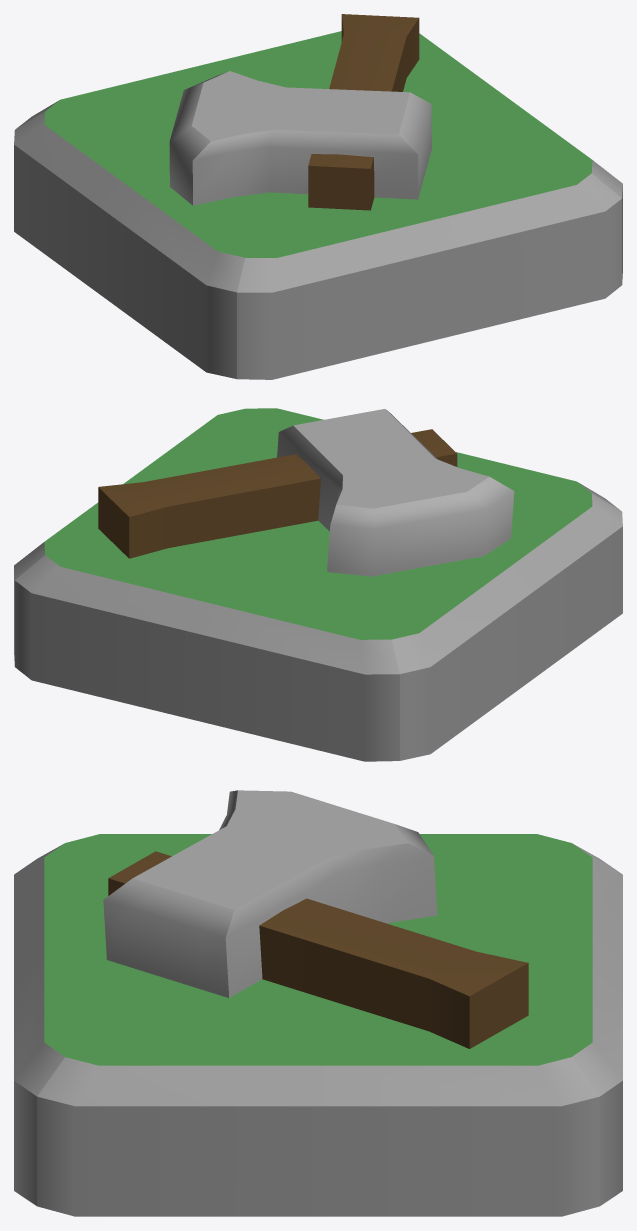
The model's file is Tile_Harvest.fbx.
3 views of the same model, one above another, from view 1: azimuth 30°, elevation 25°; view 2: azimuth 150°, elevation 25°; view 3: azimuth 270°, elevation 25° (orthographic). The views are drawn at different scales.
Parts seen in each view (by area): view 1: harvestTile, polySurface1, polySurface2; view 2: harvestTile, polySurface1, polySurface2; view 3: harvestTile, polySurface1, polySurface2.
Boxes of the visible parts, x1,y1,x2,y2 form: harvestTile: (14,31,622,379); polySurface1: (169,71,431,205); polySurface2: (308,14,419,210); harvestTile: (14,408,622,761); polySurface1: (277,409,514,576); polySurface2: (98,429,457,558); harvestTile: (14,834,622,1216); polySurface1: (103,790,437,997); polySurface2: (108,851,528,1048).
Bounding box in the file's own units: 0.3937 × 0.1527 × 0.3937.
